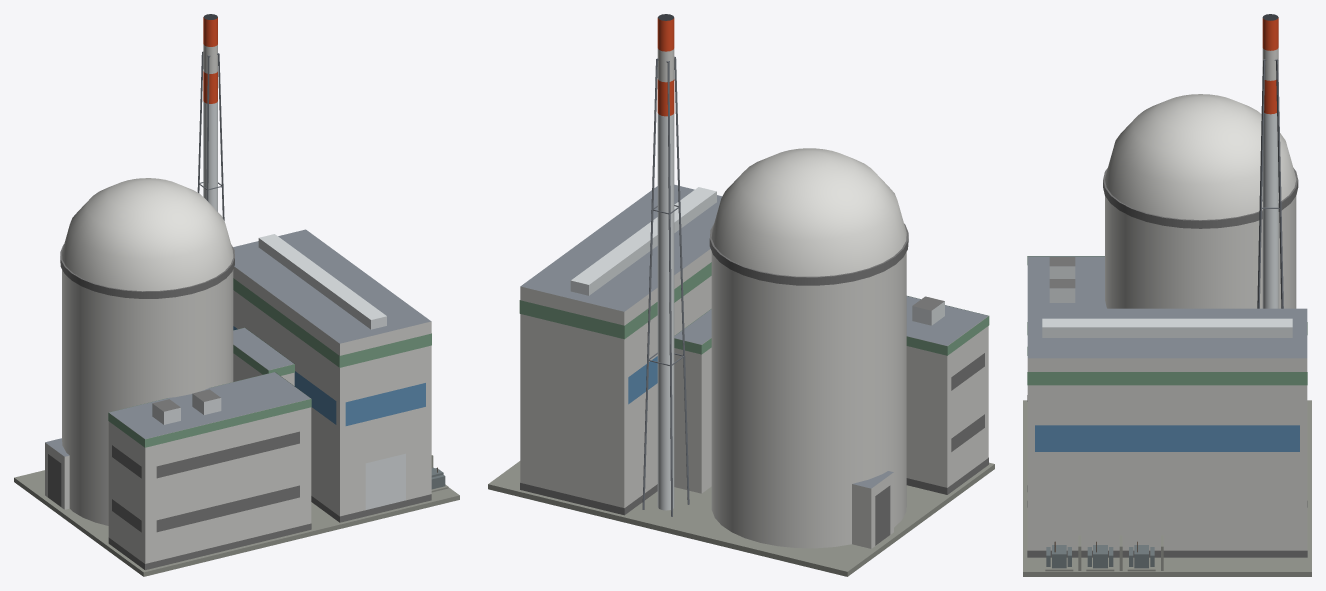
The model's file is mashup-main-top-prebuilt.fbx.
3 renders of one model, left to right at view 1: azimuth 30°, elevation 25°; view 2: azimuth 150°, elevation 25°; view 3: azimuth 270°, elevation 25°, orthographic. The views are drawn at different scales.
Visible parts, largest first — view 1: a1057/0/mashup-main-top-prebuilt; view 2: a1057/0/mashup-main-top-prebuilt; view 3: a1057/0/mashup-main-top-prebuilt.
Part boxes in pixels (left/top/right/bottom): a1057/0/mashup-main-top-prebuilt: left=14, top=14, right=459, bottom=576; a1057/0/mashup-main-top-prebuilt: left=488, top=14, right=994, bottom=576; a1057/0/mashup-main-top-prebuilt: left=1023, top=14, right=1311, bottom=576.
Size of the model in its own units: 55.2 by 72.6 by 39.2.
